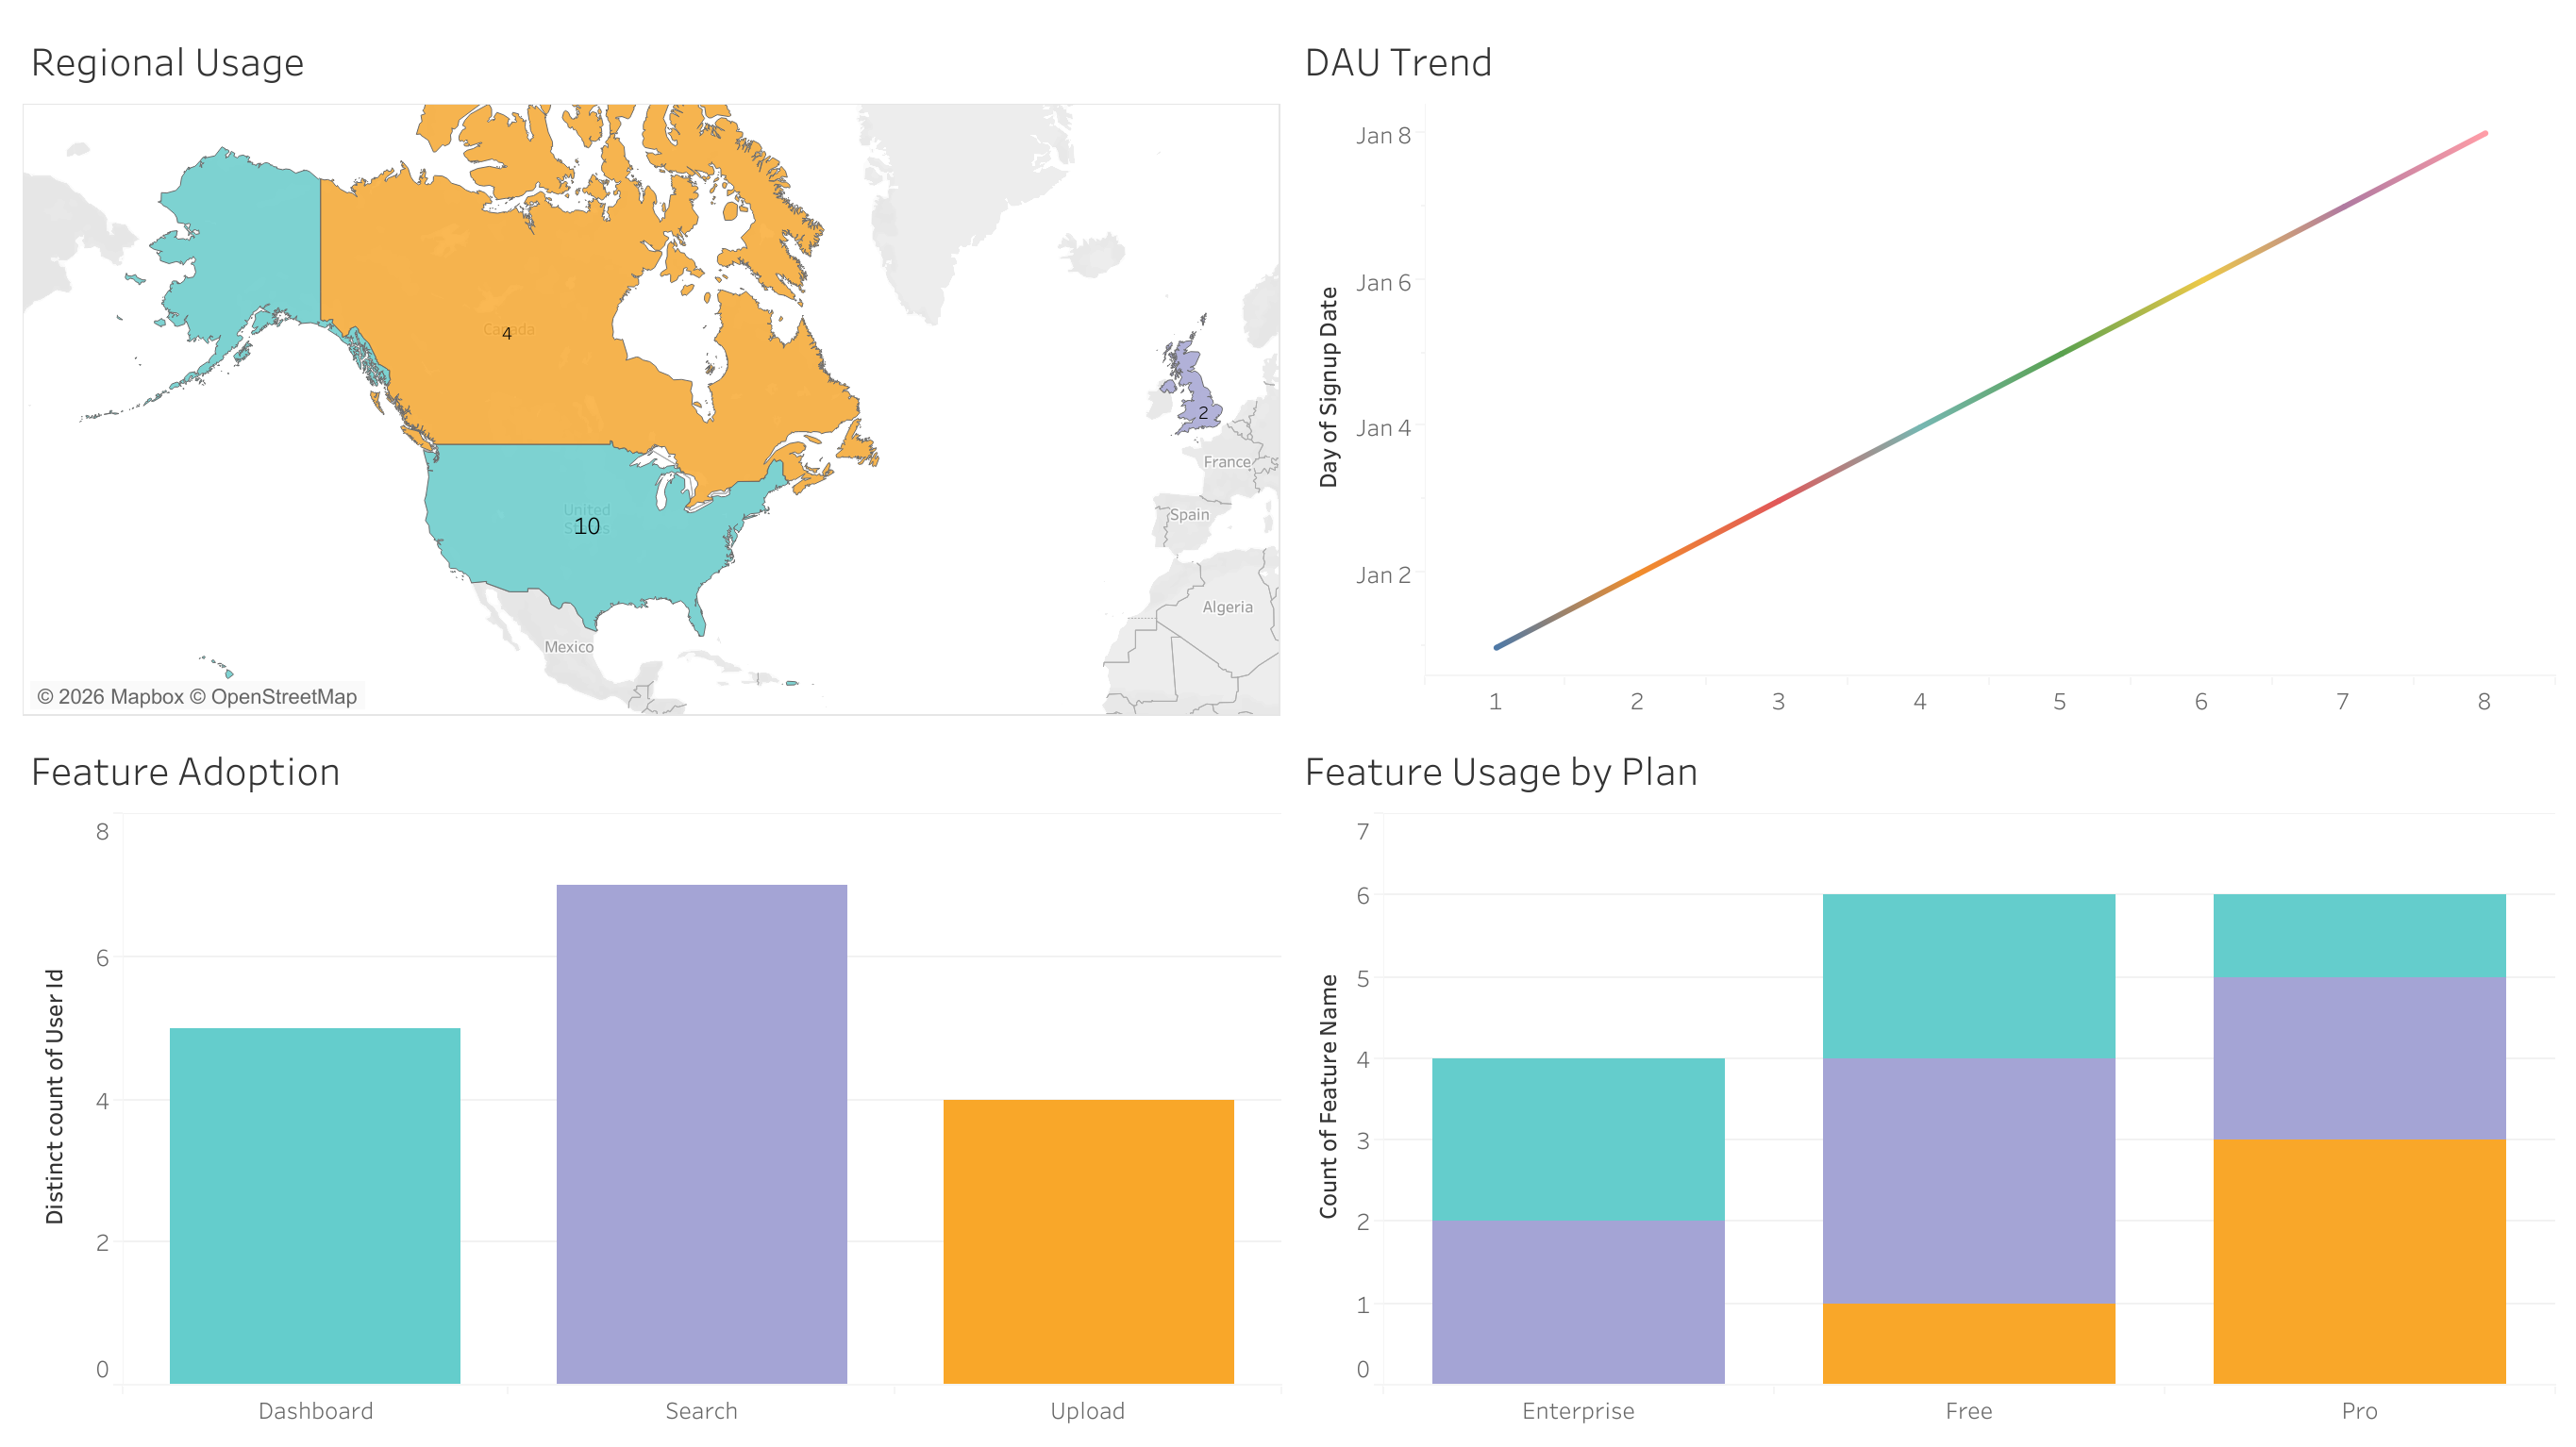

This screenshot's page, from the dashboard's own definition file:
{"tool":"tableau","page":{"name":"Product Adoption Analysis","canvas":[1366,768],"ordinal":0},"visuals":[{"type":"worksheet","title":"Regional Usage","mark":"Multipolygon","box":[8,8,675,376]},{"type":"worksheet","title":"DAU Trend","mark":"Line","rows":["signup_date"],"cols":["user_id"],"box":[683,8,675,376]},{"type":"worksheet","title":"Feature Adoption","mark":"Bar","rows":["user_id"],"cols":["feature_name"],"box":[8,384,675,376]},{"type":"worksheet","title":"Feature Usage by Plan","mark":"Bar","rows":["feature_name"],"cols":["plan"],"box":[683,384,675,376]}]}

Visuals, with their boxes in screenshot pixels (x1, y1, x2, y2), scaled from the page's 1366x768 canvas onto the 2576x1447 screenshot:
"Regional Usage" worksheet (Multipolygon marks): locate(15, 15, 1288, 723)
"DAU Trend" worksheet (Line marks): locate(1288, 15, 2561, 723)
"Feature Adoption" worksheet (Bar marks): locate(15, 723, 1288, 1432)
"Feature Usage by Plan" worksheet (Bar marks): locate(1288, 723, 2561, 1432)
